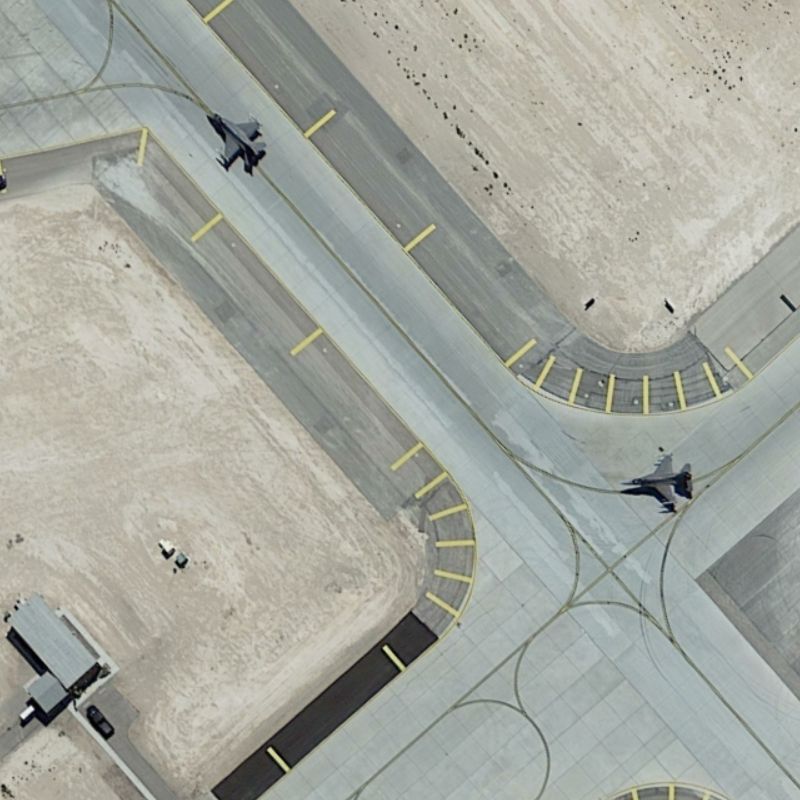A5: (621, 445, 700, 516), (199, 100, 272, 175)
